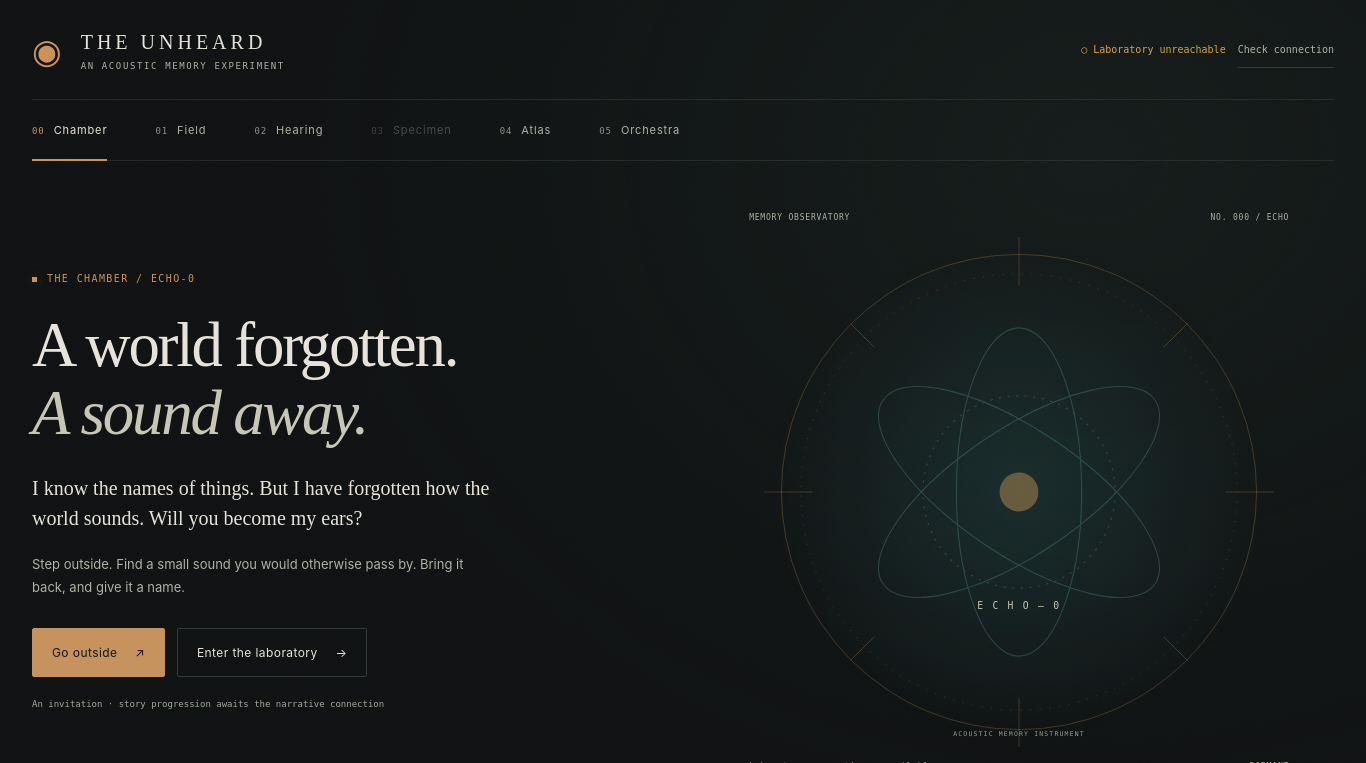
it: experience navigation › reports backend unavailable while Field remains accessible
Expected: the text "○ Laboratory unreachable" is shown, x1=1081 y1=43 x2=1226 y2=58
Click the button "Go outside ↗" at (98, 652), box x1=32 y1=628 x2=165 y2=677
(page scrolled)
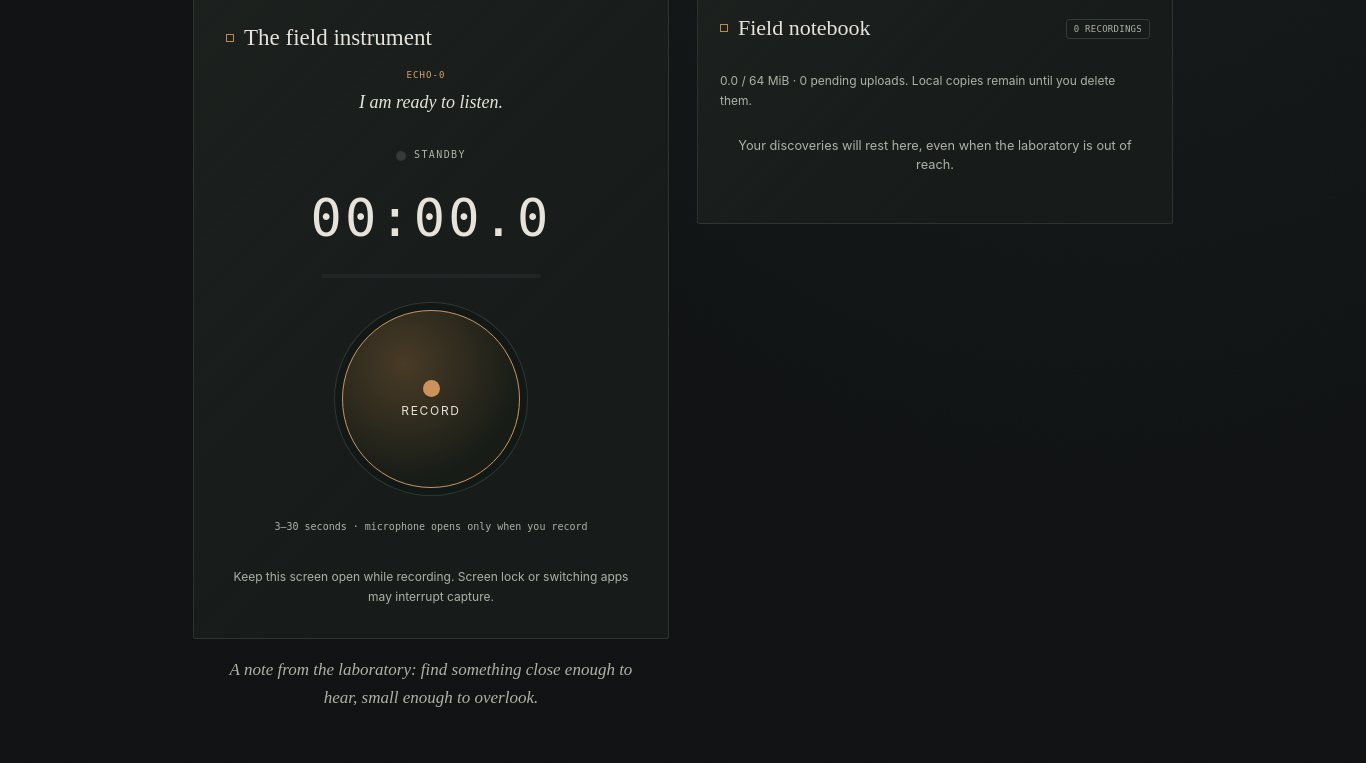
Result: the button with aria-label "start recording" is enabled at x1=342 y1=310 x2=520 y2=488
